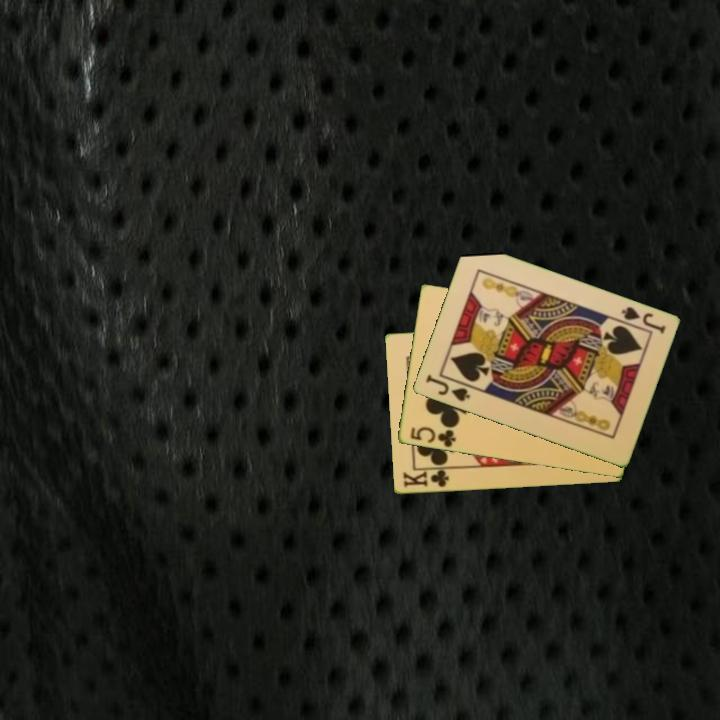5c: (407, 423, 459, 450)
Js: (422, 371, 473, 405), (617, 303, 668, 337)
Kc: (399, 465, 454, 491)
